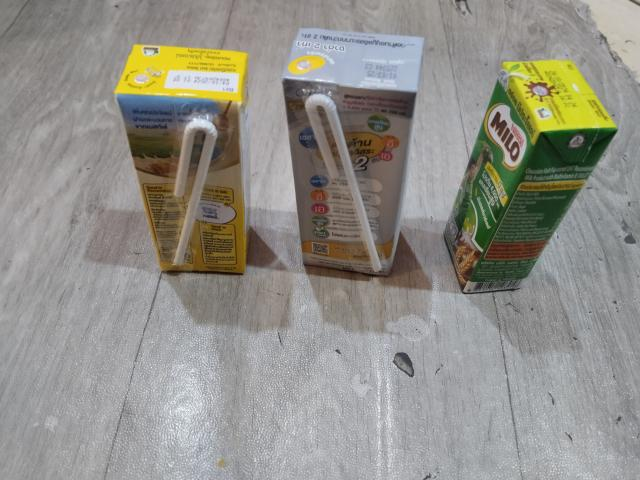drink_box: (436, 51, 623, 304), (276, 21, 433, 282), (106, 36, 257, 278)
